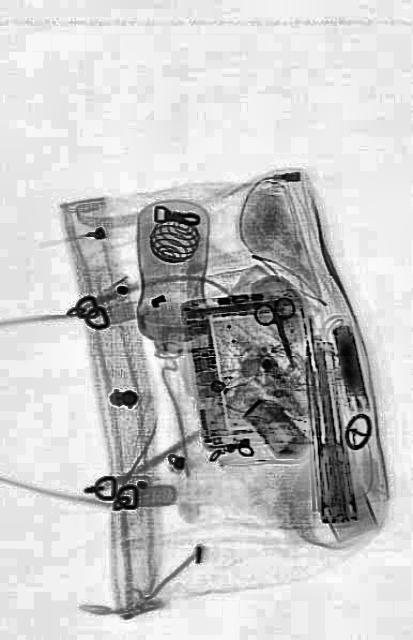Scissors: (252, 286, 306, 369)
